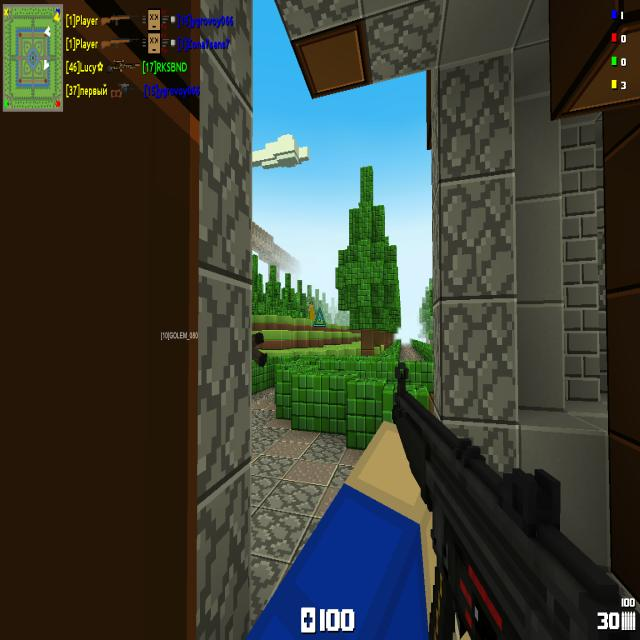enemy: (308, 302, 314, 321)
